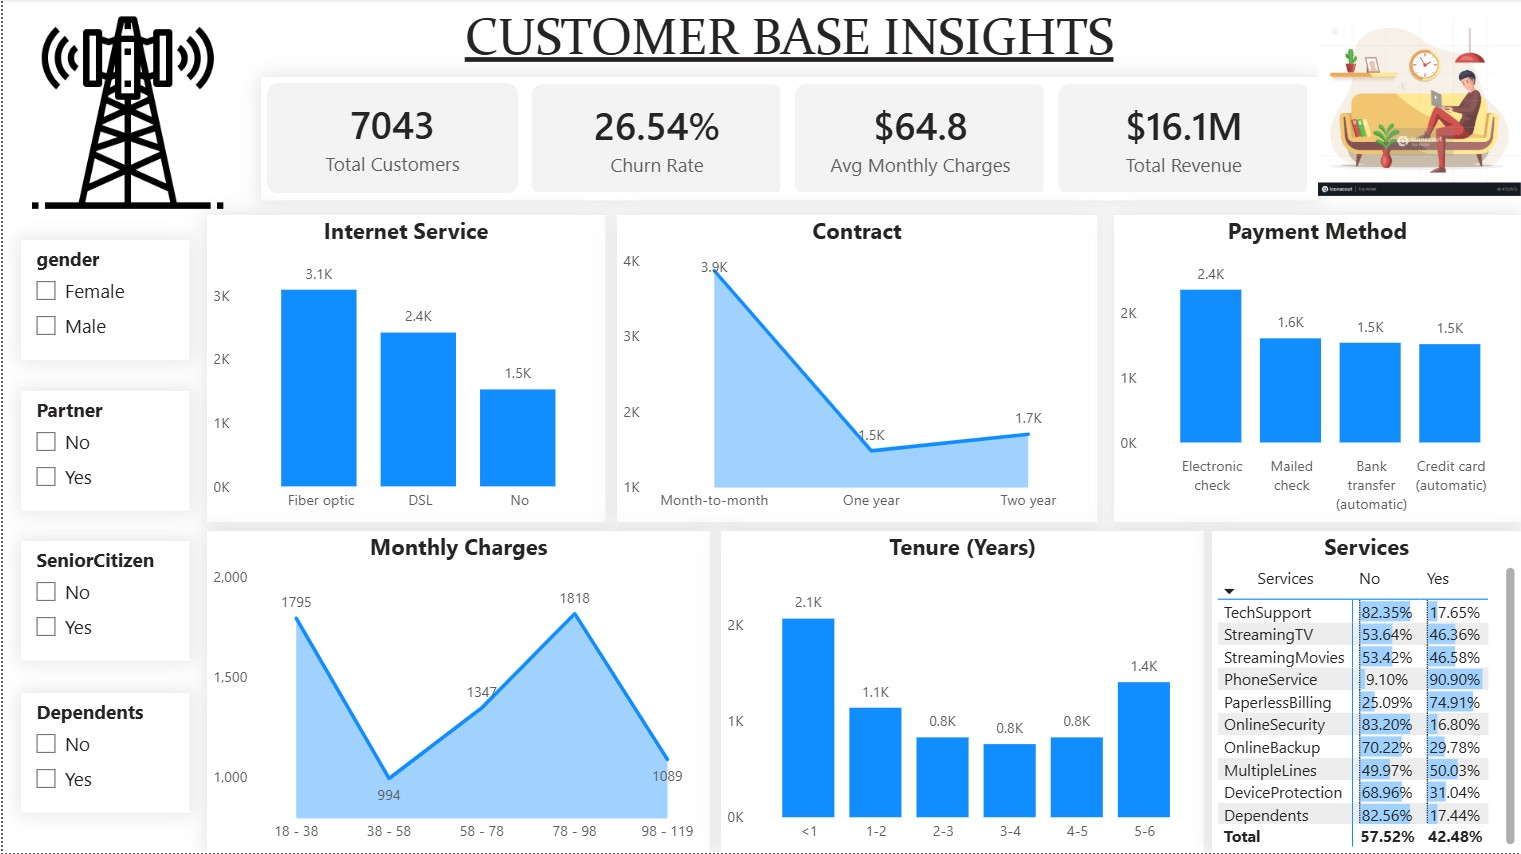

What the dashboard file says about the page in this screenshot:
{"tool":"powerbi","page":{"name":"All Customers","canvas":[1280,720],"ordinal":0},"visuals":[{"type":"cardVisual","fields":{"Data":["Measure_Table.Total Customers","Measure_Table.Churn Rate","Measure_Table.Avg Monthly Charges","Measure_Table.Total Revenue"]},"box":[217.6,65.4,891,103.9],"z":0},{"type":"columnChart","title":"Internet Service","fields":{"Y":["CountNonNull(Telco_Customer_Churn.customerID)"],"Category":["Telco_Customer_Churn.InternetService"]},"box":[171.9,181.8,335.8,258.8],"z":1},{"type":"areaChart","title":"Contract","fields":{"Y":["CountNonNull(Telco_Customer_Churn.customerID)"],"Category":["Telco_Customer_Churn.Contract"]},"box":[517.6,181.8,404.8,258.8],"z":2},{"type":"columnChart","title":"Payment Method","fields":{"Y":["CountNonNull(Telco_Customer_Churn.customerID)"],"Category":["Telco_Customer_Churn.PaymentMethod"]},"box":[936.7,181.8,343,258.8],"z":3},{"type":"areaChart","title":"Monthly Charges","fields":{"Y":["CountNonNull(Telco_Customer_Churn.customerID)"],"Category":["Telco_Customer_Churn.MonthlyChargesGroup"]},"box":[171.9,448.7,424.5,271.3],"z":4},{"type":"columnChart","title":"Tenure (Years)","fields":{"Category":["Telco_Customer_Churn.Tenure(Years)"],"Y":["CountNonNull(Telco_Customer_Churn.customerID)"]},"box":[605.4,448.7,407.5,271.3],"z":5},{"type":"pivotTable","title":"Services","fields":{"Rows":["Telco_Customer_Churn_Services.Services"],"Columns":["Telco_Customer_Churn_Services.Status"],"Values":["Sum(Telco_Customer_Churn_Services.Churn_Status)"]},"box":[1019.1,448.7,260.6,271.3],"z":6},{"type":"slicer","fields":{"Values":["Telco_Customer_Churn.Dependents"]},"box":[15.2,584.8,142.4,101.2],"z":7},{"type":"slicer","fields":{"Values":["Telco_Customer_Churn.gender"]},"box":[15.2,203.3,142.4,101.2],"z":8},{"type":"slicer","fields":{"Values":["Telco_Customer_Churn.SeniorCitizen"]},"box":[15.2,456.7,142.4,101.2],"z":9},{"type":"slicer","fields":{"Values":["Telco_Customer_Churn.Partner"]},"box":[15.2,330.4,142.4,101.2],"z":10},{"type":"textbox","box":[266,0,794.3,66.3],"z":11},{"type":"image","box":[15.2,9,180,172.8],"z":12},{"type":"image","box":[1108.7,0,171,181.8],"z":13}]}

Visuals, with their boxes in screenshot pixels (x1, y1, x2, y2), scaled from the page's 1280x720 canvas onto the 1521x854 screenshot:
cardVisual - Measure_Table.Total Customers x Measure_Table.Churn Rate: 259/78/1317/201
"Internet Service" columnChart: 204/216/603/523
"Contract" areaChart: 615/216/1096/523
"Payment Method" columnChart: 1113/216/1520/523
"Monthly Charges" areaChart: 204/532/709/853
"Tenure (Years)" columnChart: 719/532/1204/853
"Services" pivotTable: 1211/532/1520/853
slicer - Telco_Customer_Churn.Dependents: 18/694/187/814
slicer - Telco_Customer_Churn.gender: 18/241/187/361
slicer - Telco_Customer_Churn.SeniorCitizen: 18/542/187/662
slicer - Telco_Customer_Churn.Partner: 18/392/187/512
textbox: 316/0/1260/79
image: 18/11/232/216
image: 1317/0/1520/216
